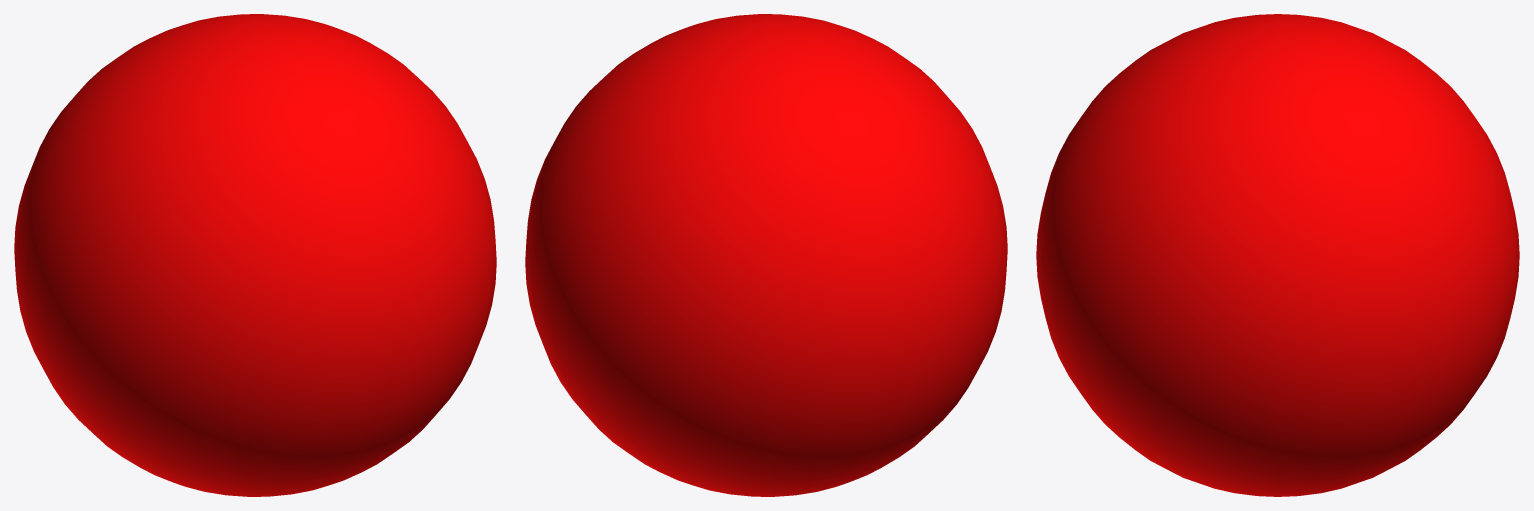
File: hostile-drone.glb
3 views of the same model, side by side, from view 1: azimuth 30°, elevation 25°; view 2: azimuth 150°, elevation 25°; view 3: azimuth 270°, elevation 25° (orthographic).
Parts seen in each view (by area): view 1: RED; view 2: RED; view 3: RED.
Part boxes in pixels (<box>): RED: <box>14,14,496,496</box>; RED: <box>525,14,1007,496</box>; RED: <box>1036,14,1519,496</box>.
Size of the model in its own units: 2 by 2 by 2.
